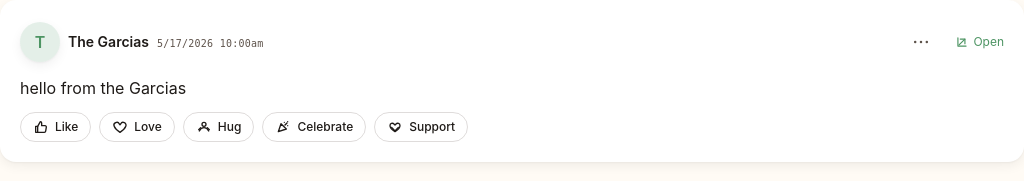
AnnouncementCard moderation menu › replaces the whole card with a blocked-content placeholder once its author is blocked from this menu
This screenshot has width=1024, height=181.
Click the button named "More actions": {"x": 921, "y": 42} 899,20 -> 943,64
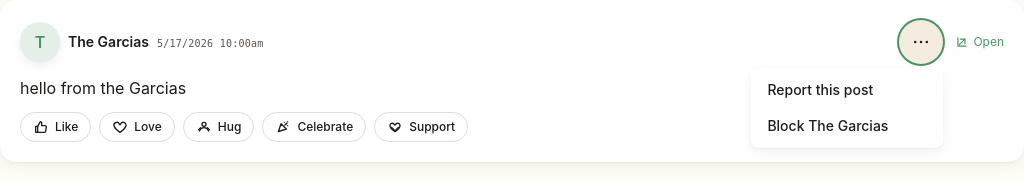
Click the menu item "Block The Garcias": {"x": 847, "y": 126} 755,108 -> 939,144
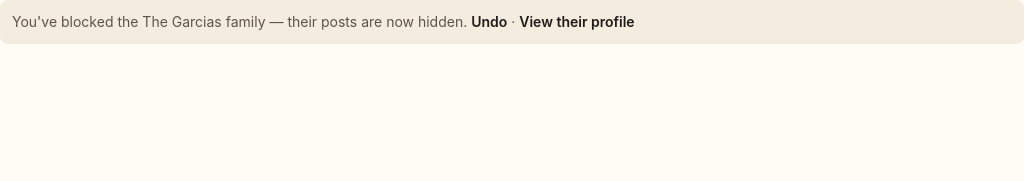
Now the text "You've blocked the The Garcias family — their posts are now hidden" is shown, box 12,13 -> 635,30
Now the text "hello from the Garcias" is gone
